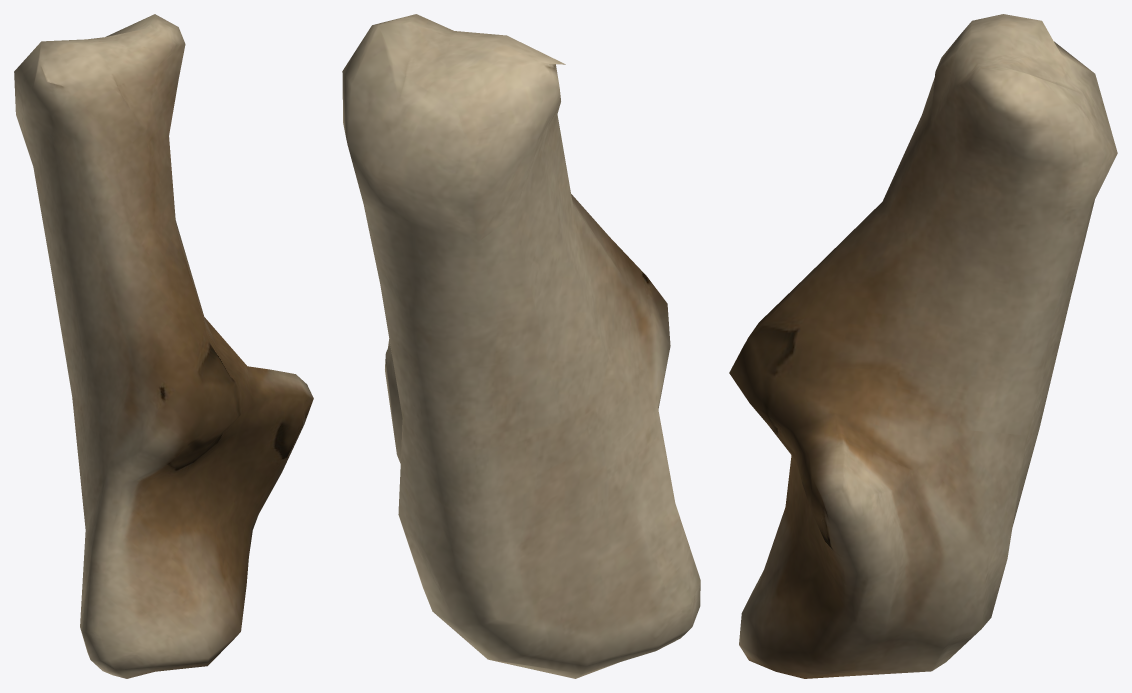
The model's file is Calcaneus.glb.
3 views of the same model, side by side, from view 1: azimuth 30°, elevation 25°; view 2: azimuth 150°, elevation 25°; view 3: azimuth 270°, elevation 25° (orthographic). The views are drawn at different scales.
Parts seen in each view (by area): view 1: Calcaneus_Right1:Group40833; view 2: Calcaneus_Right1:Group40833; view 3: Calcaneus_Right1:Group40833.
Part boxes in pixels (bbox=[...]): Calcaneus_Right1:Group40833: bbox=[14, 14, 313, 678]; Calcaneus_Right1:Group40833: bbox=[342, 14, 700, 678]; Calcaneus_Right1:Group40833: bbox=[729, 14, 1117, 678].
Bounding box in the file's own units: 18.78 × 42.95 × 23.25.
1 material, 1 textured.
